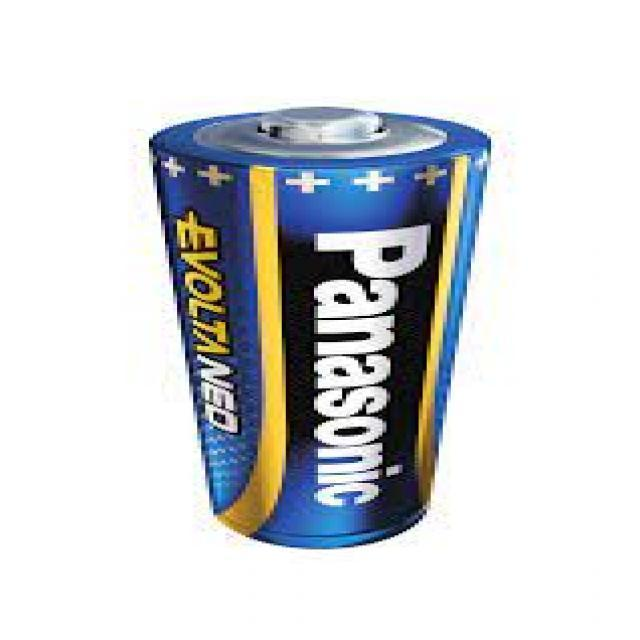Hazard: (143, 105, 492, 549)
